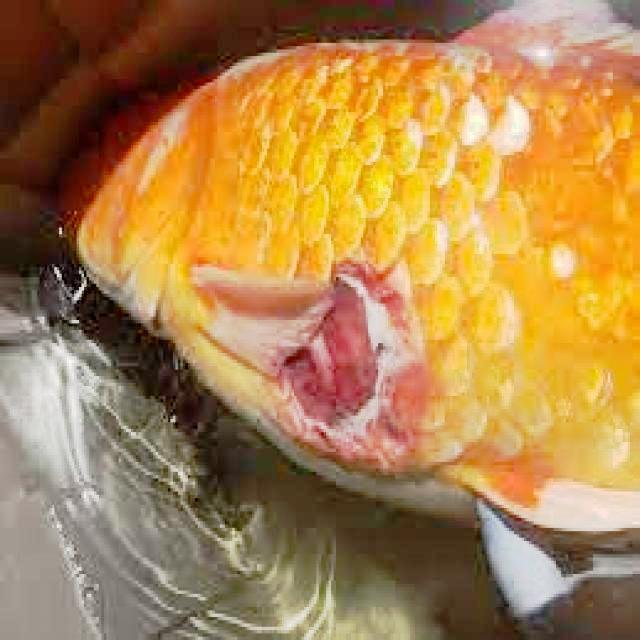Columnaris Disease: (79, 0, 639, 528)
